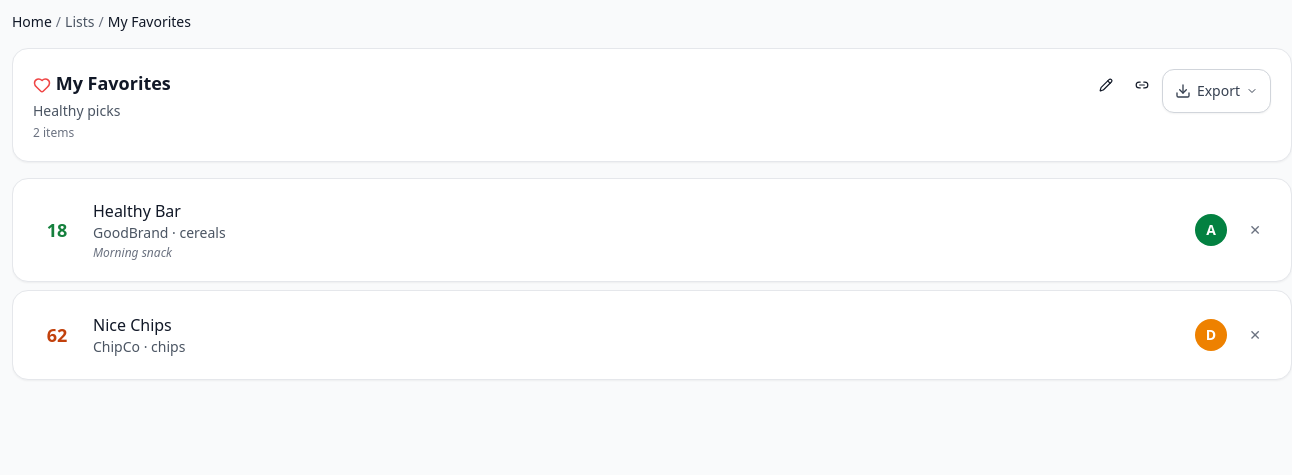
Test case: ListDetailPage › cancels edit mode
This screenshot has width=1292, height=475.
Click the button titled "Edit list".
click(1106, 85)  # box [1090,69,1122,101]
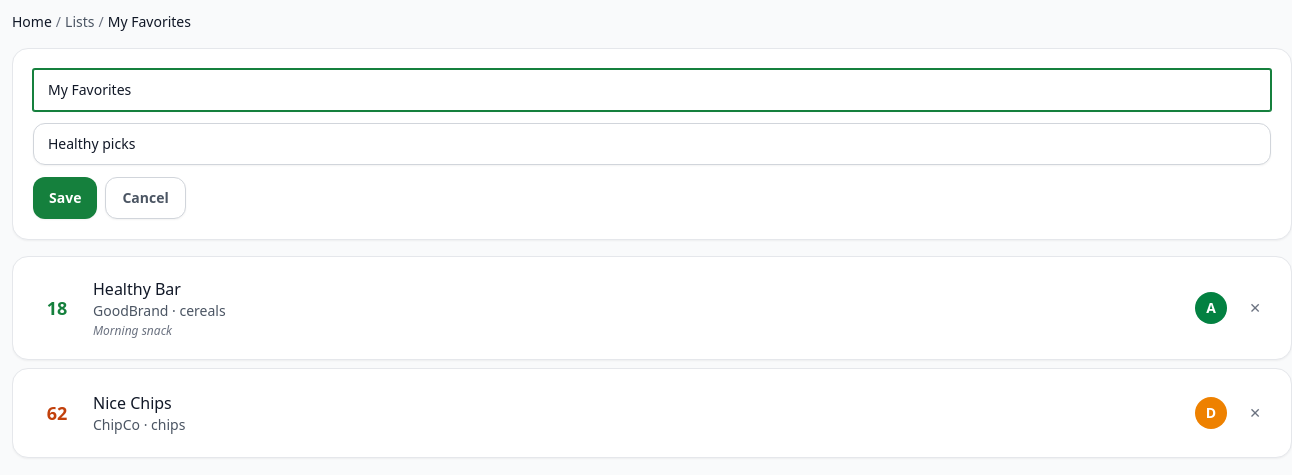
Result: the 1st field showing "My Favorites" is shown at [33,69,1271,111]
Click the button "Cancel".
click(146, 198)  # box [105,177,186,219]
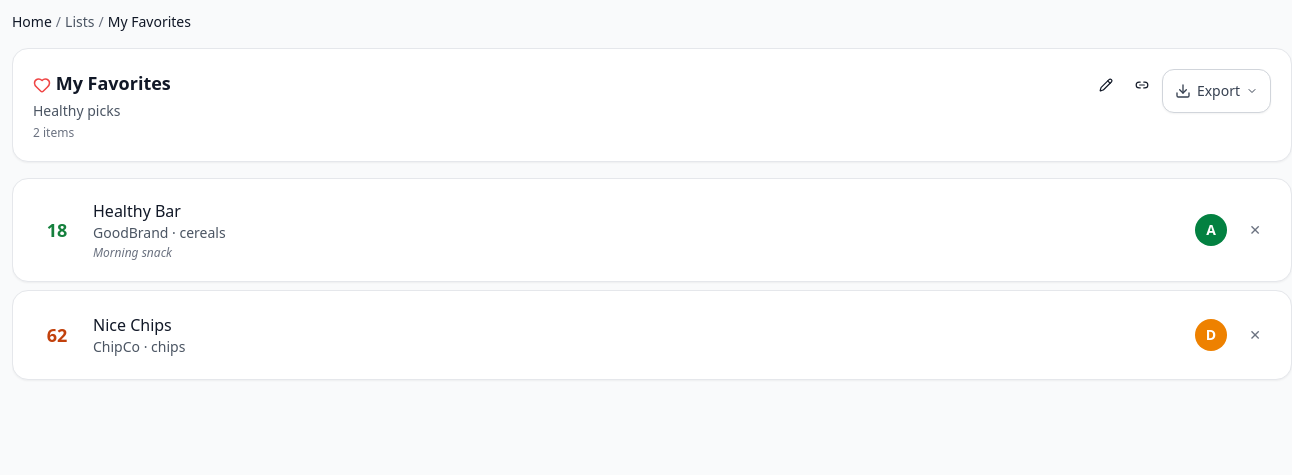
Result: the heading "My Favorites" is shown at [33,69,171,97]
